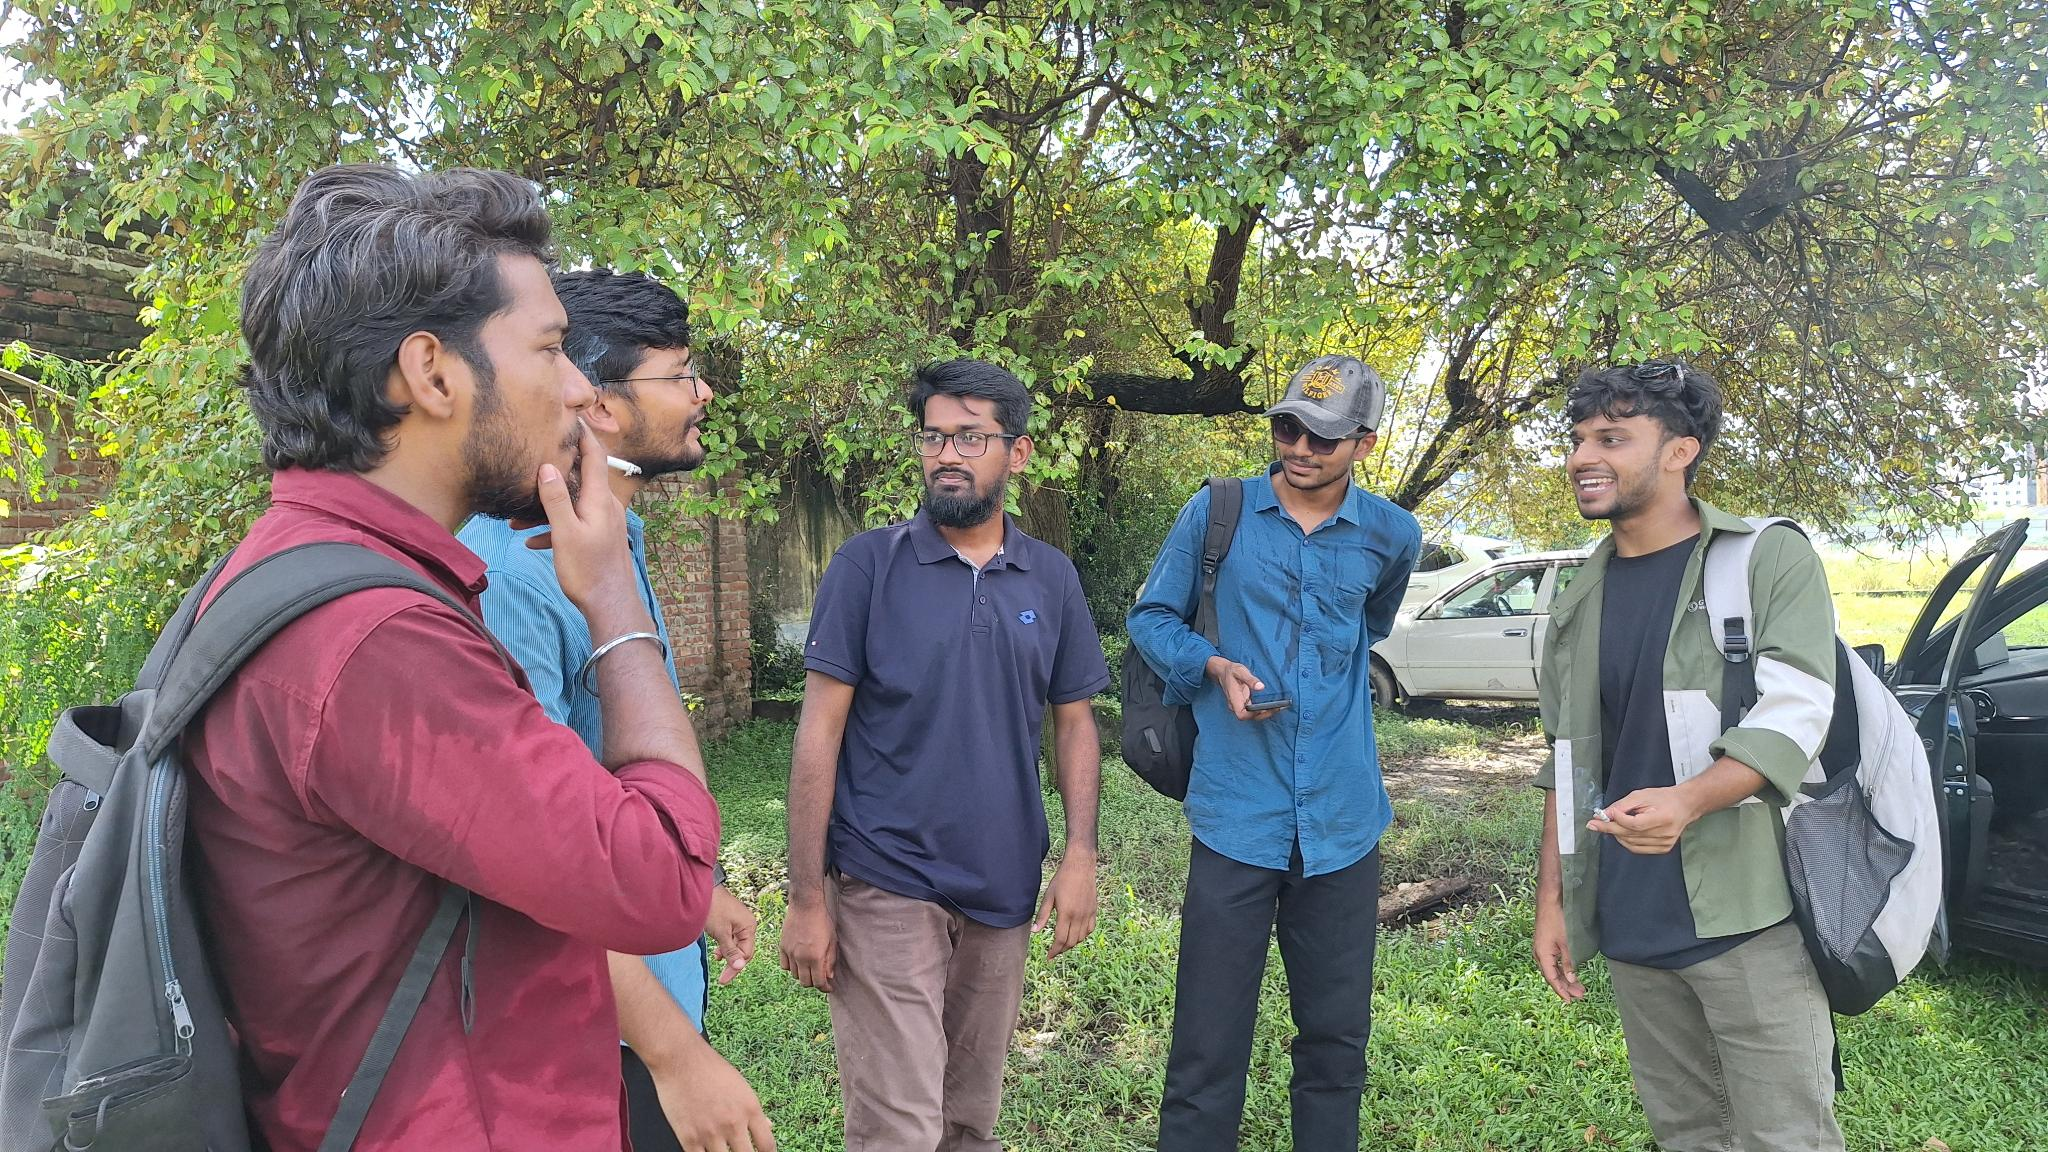cigarette: (603, 452, 646, 480), (1591, 805, 1613, 827)
nonSmoker: (781, 359, 1107, 1152), (1117, 354, 1426, 1152)
smoker: (0, 179, 716, 1152), (1530, 367, 1950, 1152)
